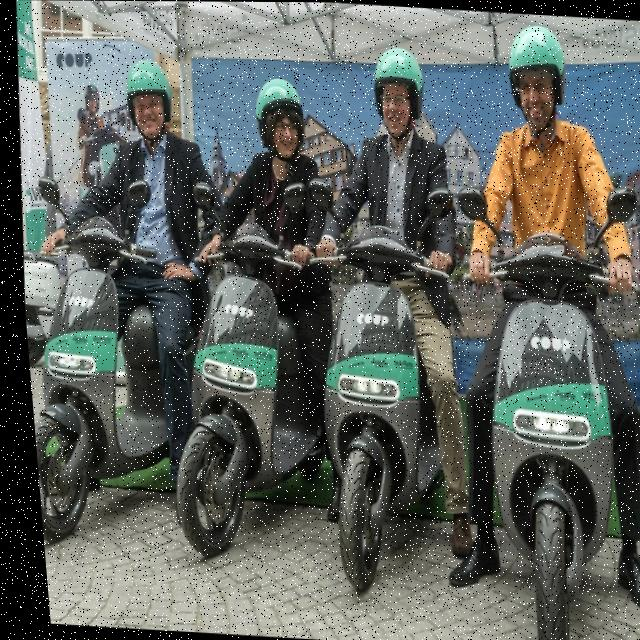helmet: (499, 20, 572, 133), (365, 43, 429, 143), (247, 72, 310, 167), (116, 56, 177, 151)
